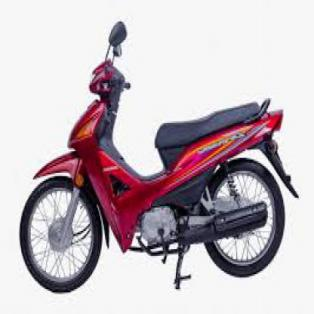Motocicleta: (11, 16, 297, 298)
